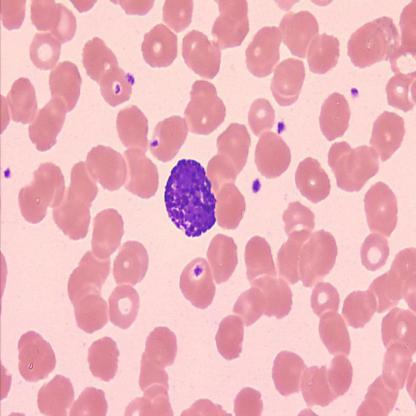Basophil: (162, 155, 219, 241)
